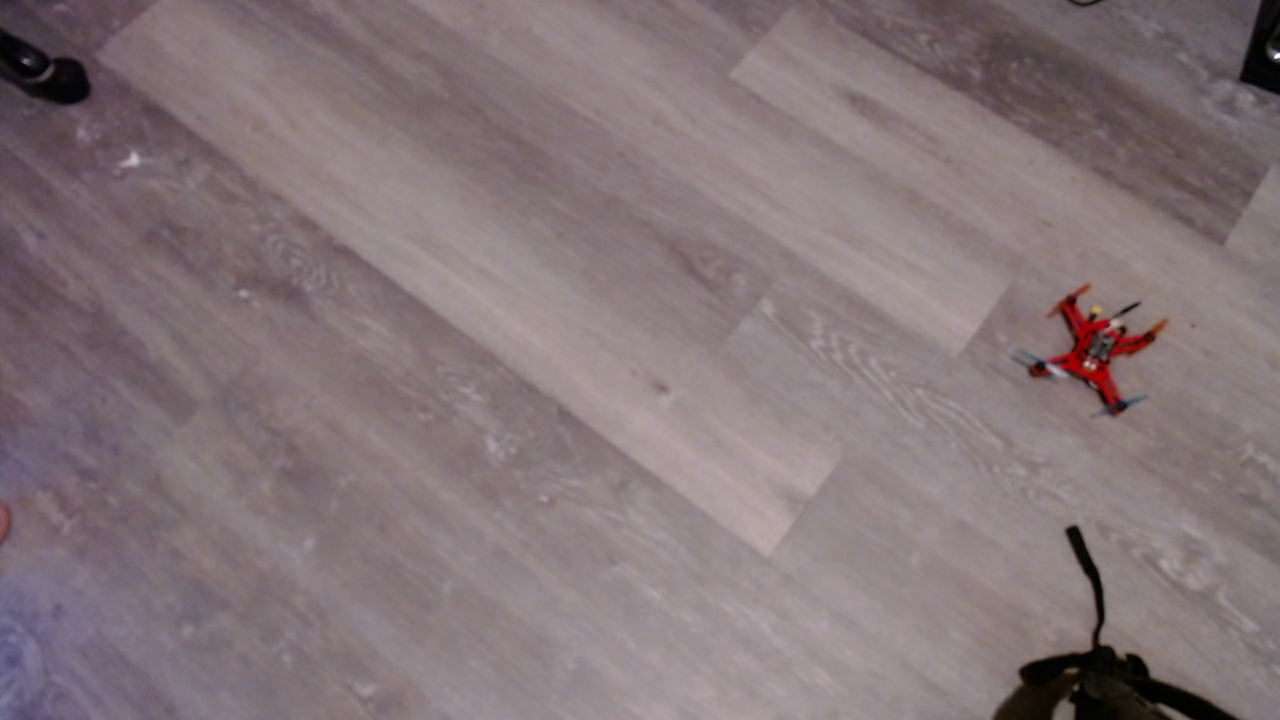crazyflie: (1017, 281, 1179, 424)
